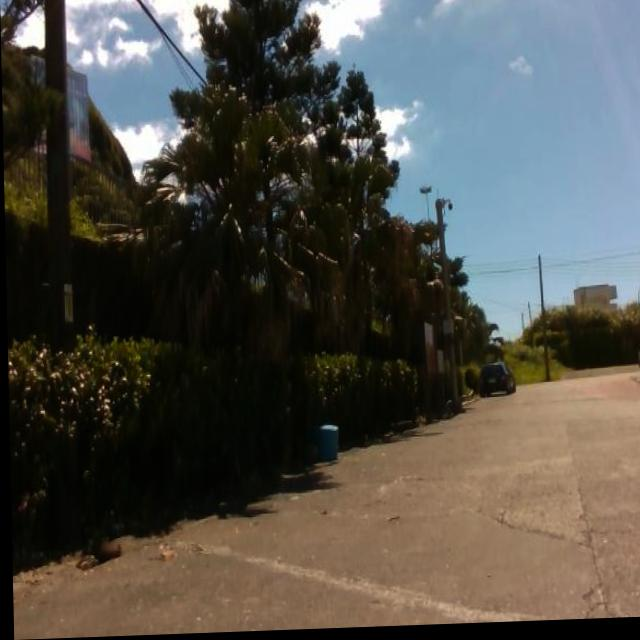pollute: (311, 424, 341, 468)
